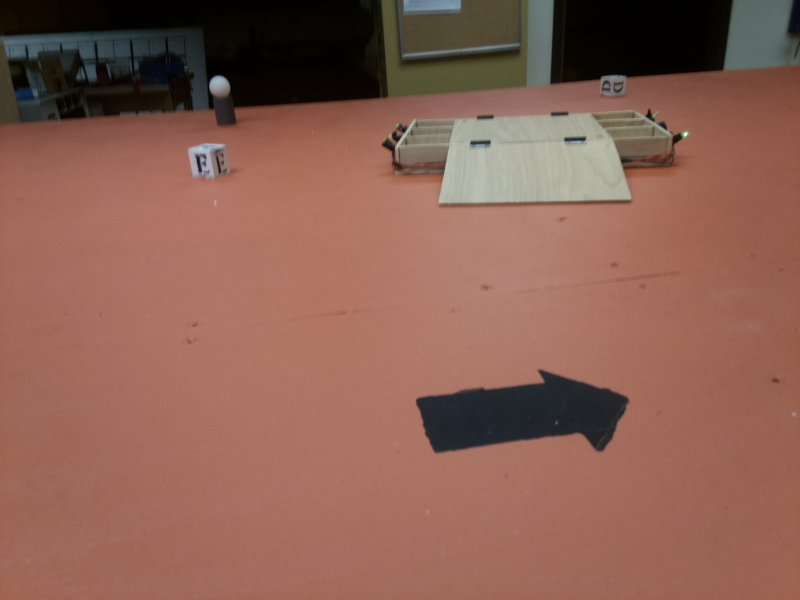blockD: (596, 73, 626, 99)
blockE: (189, 143, 229, 177)
obstacle: (207, 76, 242, 127)
side: (642, 108, 688, 149), (381, 112, 408, 157)
slope: (437, 138, 633, 207), (453, 108, 600, 119)
start: (416, 364, 630, 467)
